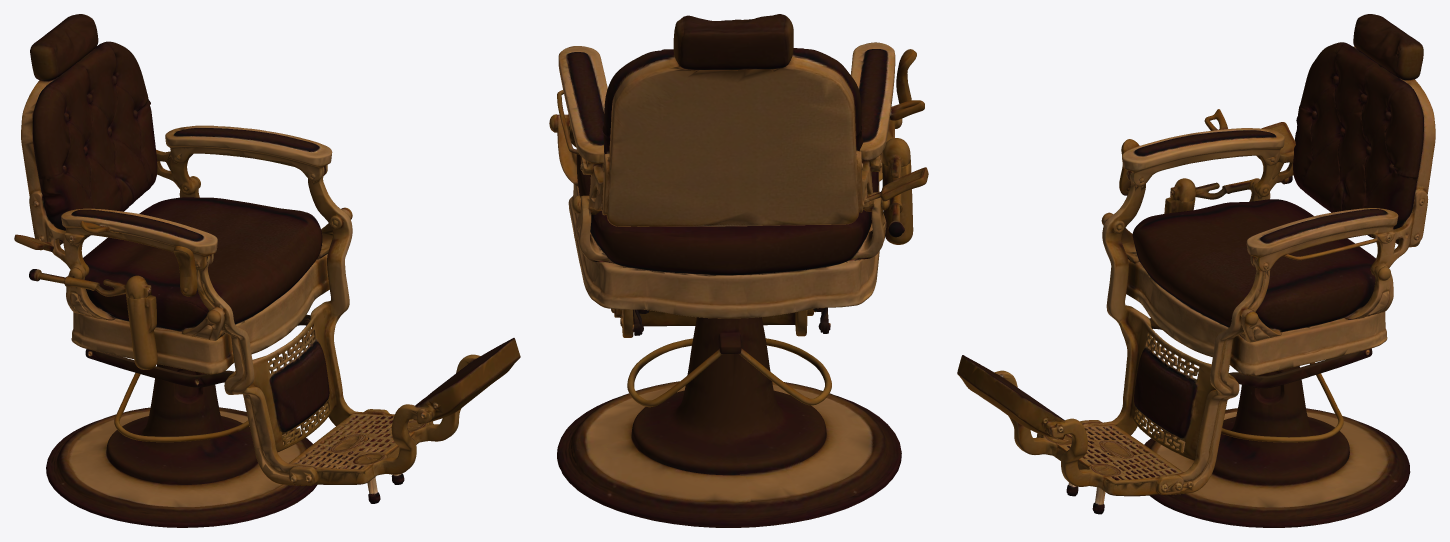
The picture shows the model from 3 angles, left to right: view 1: azimuth 30°, elevation 25°; view 2: azimuth 150°, elevation 25°; view 3: azimuth 270°, elevation 25°; orthographic projection. The views are drawn at different scales.
Parts seen in each view (by area): view 1: tripo_node_b3f9533c-2db1-48c3-82ba-8489292b4572; view 2: tripo_node_b3f9533c-2db1-48c3-82ba-8489292b4572; view 3: tripo_node_b3f9533c-2db1-48c3-82ba-8489292b4572.
Boxes of the visible parts, bbox=[...] form: tripo_node_b3f9533c-2db1-48c3-82ba-8489292b4572: bbox=[14, 14, 520, 527]; tripo_node_b3f9533c-2db1-48c3-82ba-8489292b4572: bbox=[549, 14, 928, 527]; tripo_node_b3f9533c-2db1-48c3-82ba-8489292b4572: bbox=[957, 14, 1435, 527].
Bounding box in the file's own units: 0.8382 × 0.8858 × 0.9339.
Materials: 1 (1 with a texture image).
